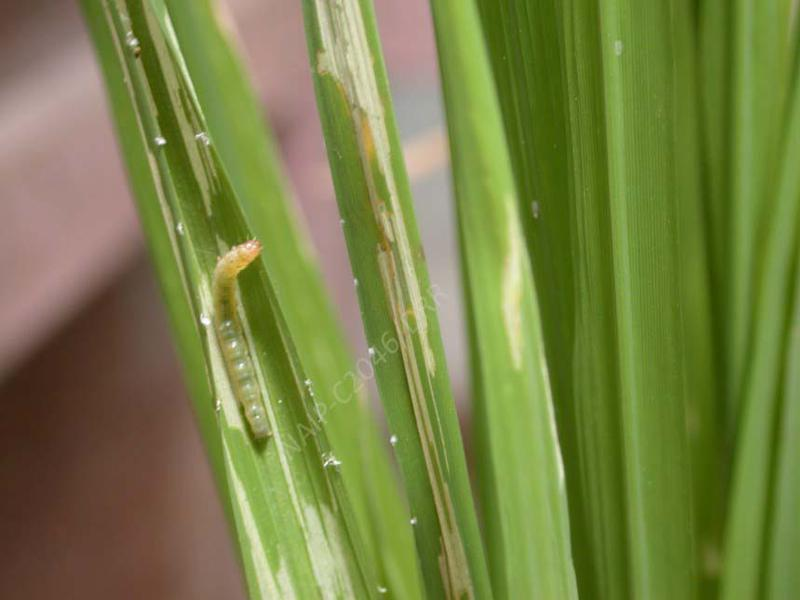Leaf_folder: (198, 223, 301, 463)
